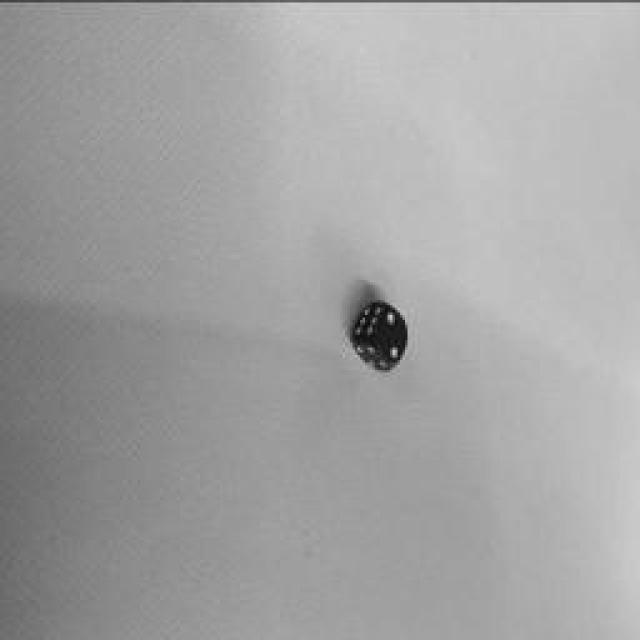dice_2: (375, 306, 407, 364)
